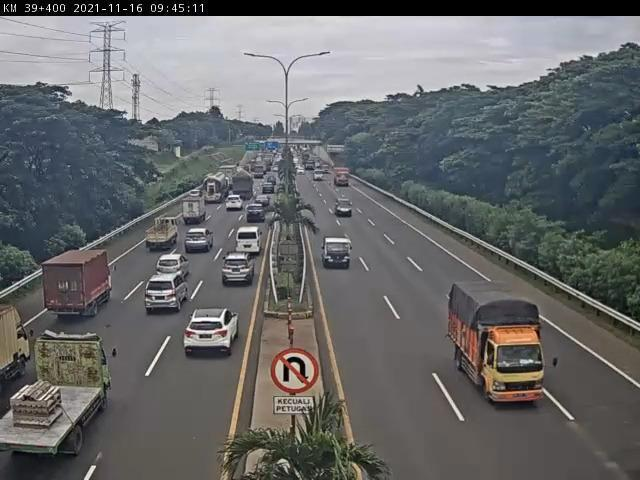car: (188, 309, 240, 355), (147, 274, 191, 313), (221, 255, 254, 289), (324, 235, 351, 269), (156, 255, 190, 280), (238, 228, 265, 258), (181, 233, 210, 258), (225, 194, 246, 213), (245, 208, 266, 227), (336, 199, 354, 216), (253, 196, 271, 211)
truck: (2, 331, 117, 464), (446, 284, 549, 410), (43, 250, 113, 320), (146, 218, 182, 253), (232, 172, 259, 204), (205, 173, 230, 203), (179, 199, 204, 228)
